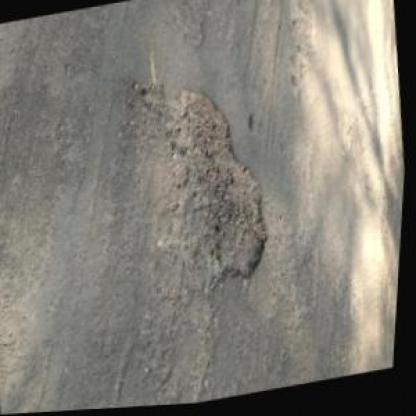pothole: (155, 76, 286, 301)
